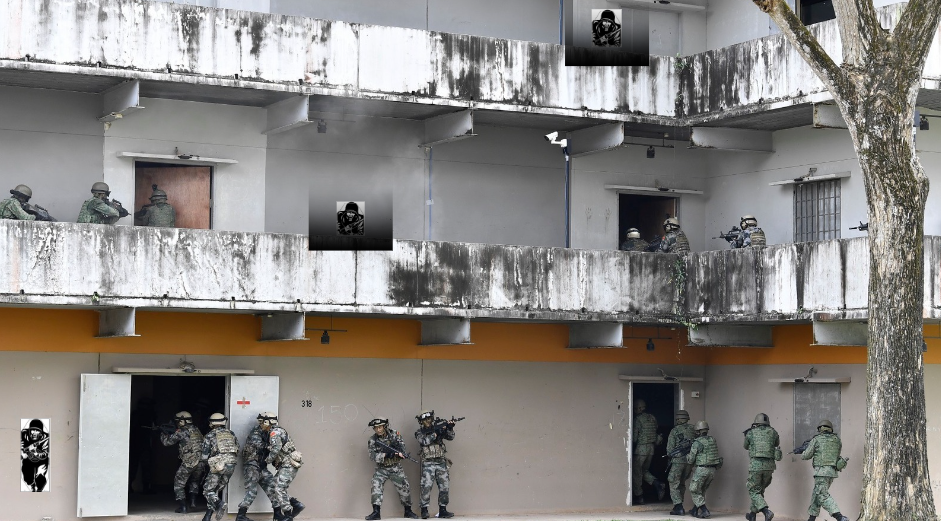HVT1: (21, 418, 49, 492), (591, 8, 622, 46), (336, 201, 365, 238)
